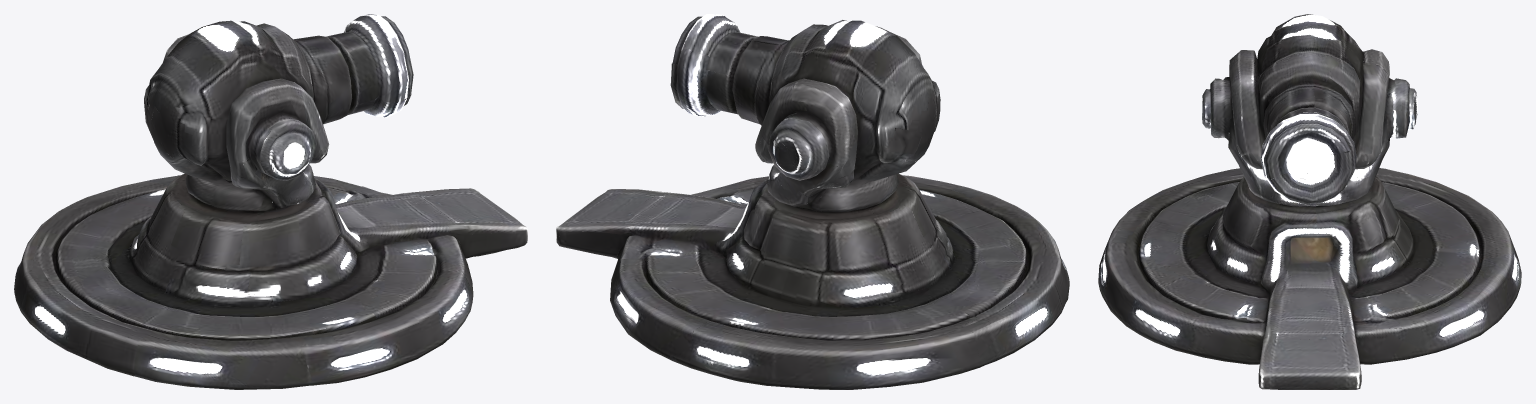
File: Relay_Cannon_v4.glb
3 renders of one model, left to right at view 1: azimuth 30°, elevation 25°; view 2: azimuth 150°, elevation 25°; view 3: azimuth 270°, elevation 25°, orthographic. The views are drawn at different scales.
Parts seen in each view (by area): view 1: Relay_Cannon_v4, Head; view 2: Relay_Cannon_v4, Head; view 3: Relay_Cannon_v4, Head.
Boxes of the visible parts, x1=… form: Relay_Cannon_v4: x1=14, y1=156, x2=527, y2=389; Head: x1=144, y1=14, x2=413, y2=196; Relay_Cannon_v4: x1=556, y1=163, x2=1069, y2=389; Head: x1=670, y1=14, x2=940, y2=196; Relay_Cannon_v4: x1=1098, y1=154, x2=1521, y2=389; Head: x1=1202, y1=14, x2=1417, y2=204.
Bounding box in the file's own units: 9.3 × 5.35 × 8.1.
1 material, 1 textured.
